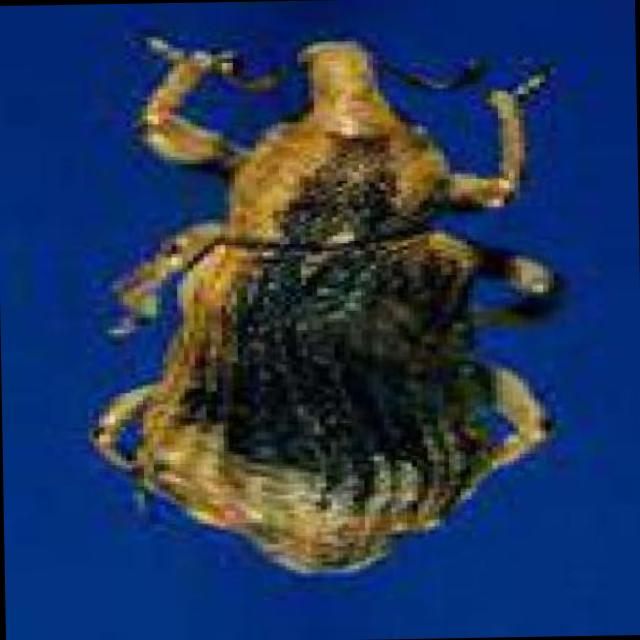rice-bug: (91, 26, 574, 576)
